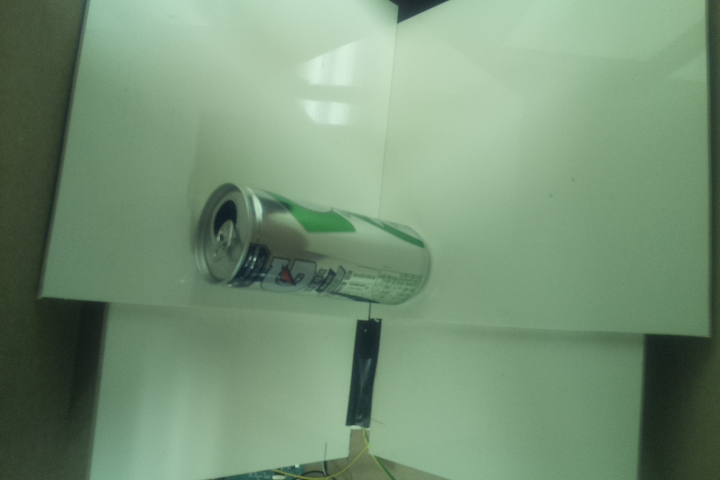can: (185, 179, 436, 310)
